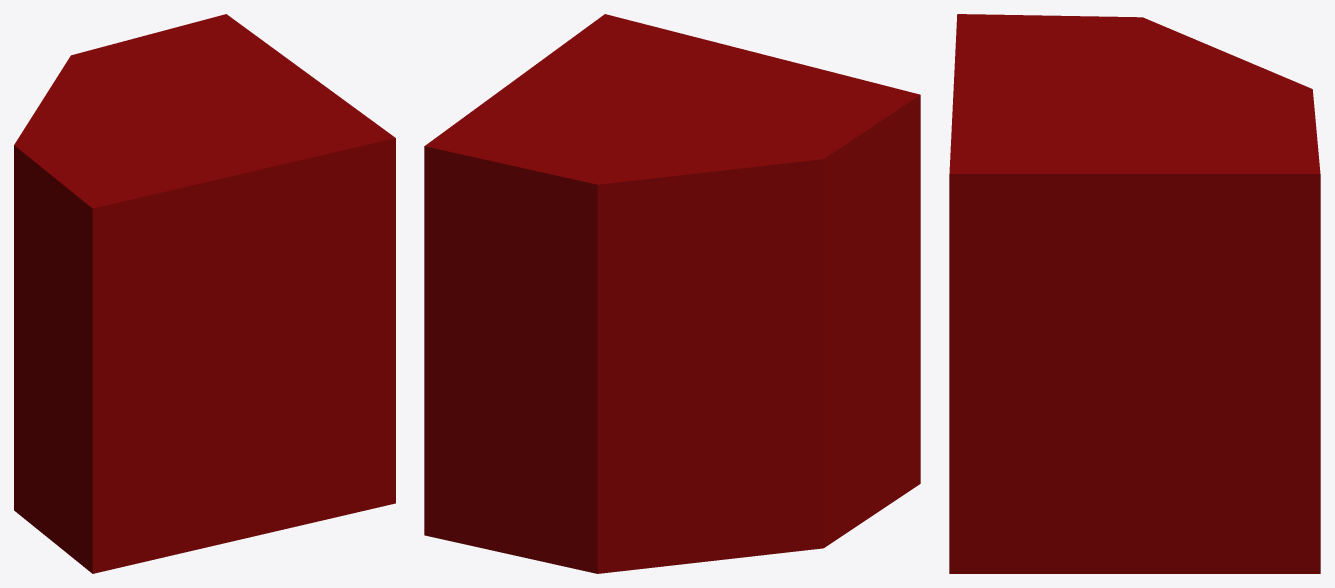
The model's file is New Game Object (95).obj.
3 views of the same model, side by side, from view 1: azimuth 30°, elevation 25°; view 2: azimuth 150°, elevation 25°; view 3: azimuth 270°, elevation 25° (orthographic). The views are drawn at different scales.
Parts seen in each view (by area): view 1: New Game Object (95)_0, New Game Object (95)_1; view 2: New Game Object (95)_0, New Game Object (95)_1; view 3: New Game Object (95)_0, New Game Object (95)_1.
Boxes of the visible parts, box(x1,y1,x2,y2) form: New Game Object (95)_0: box(14, 138, 395, 573); New Game Object (95)_1: box(14, 14, 395, 208); New Game Object (95)_0: box(424, 95, 920, 573); New Game Object (95)_1: box(424, 14, 919, 184); New Game Object (95)_0: box(949, 174, 1320, 573); New Game Object (95)_1: box(949, 14, 1320, 173).
Size of the model in its own units: 7.85 by 9.14 by 7.69.
